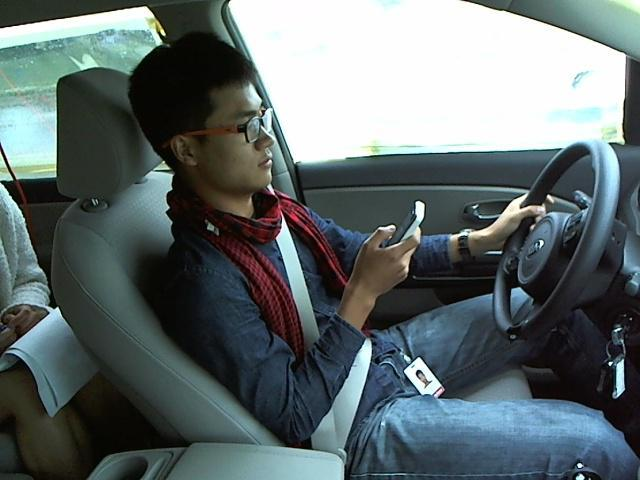PhoneUse: (386, 197, 429, 265)
